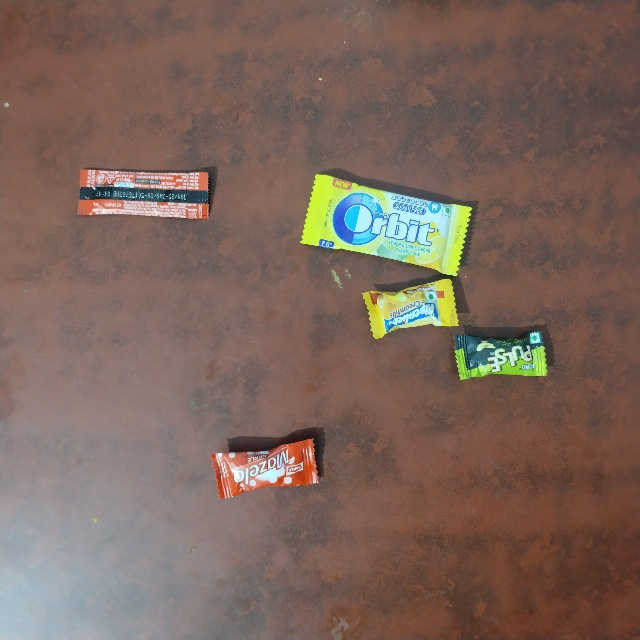Alpenlibe Creamfills: (361, 297, 455, 344)
Mazelo: (211, 452, 317, 498)
Nescafe Coffee: (79, 165, 215, 221)
Orbit: (319, 172, 474, 248)
Pulse: (452, 329, 555, 383)
